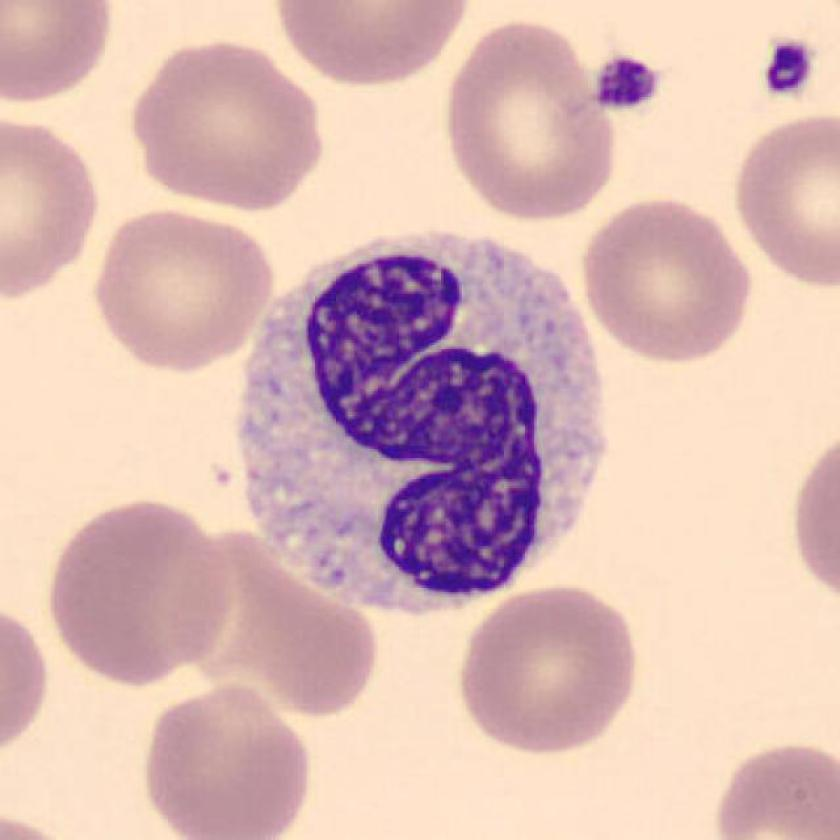neutrophil: (242, 237, 604, 613)
